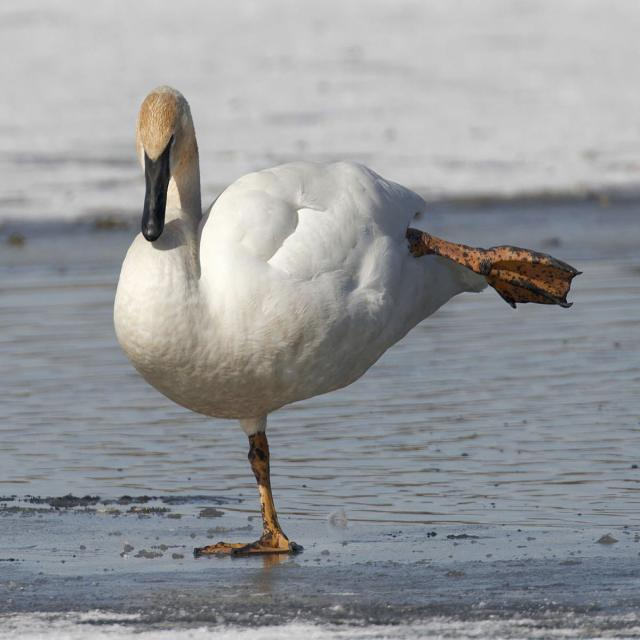swan: (114, 86, 581, 555)
